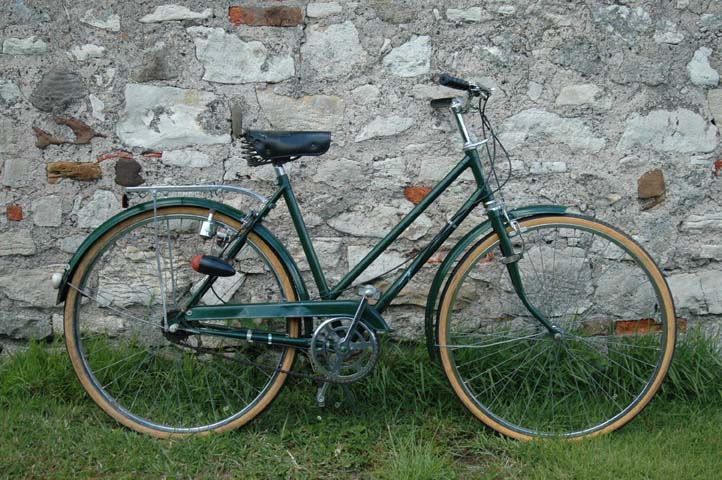bicycle: (56, 77, 676, 437)
